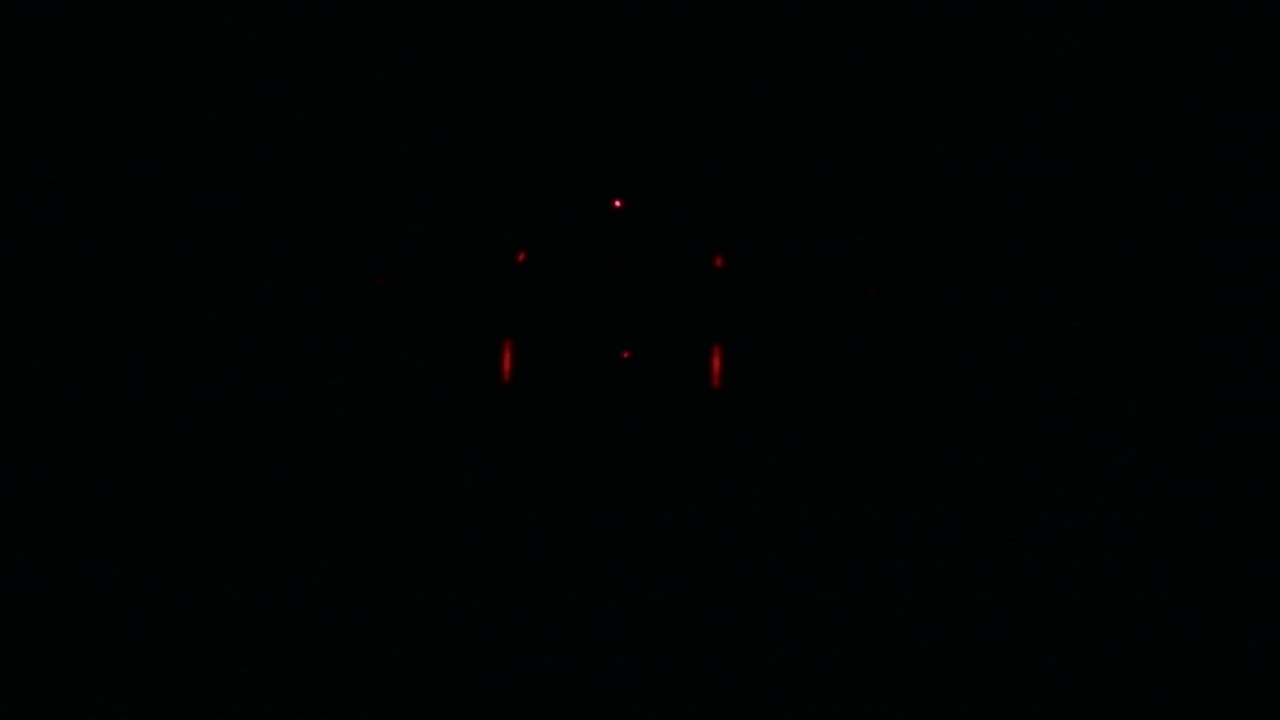lamp: (497, 334, 514, 392), (708, 332, 724, 393)
pair2: (498, 334, 724, 393)
